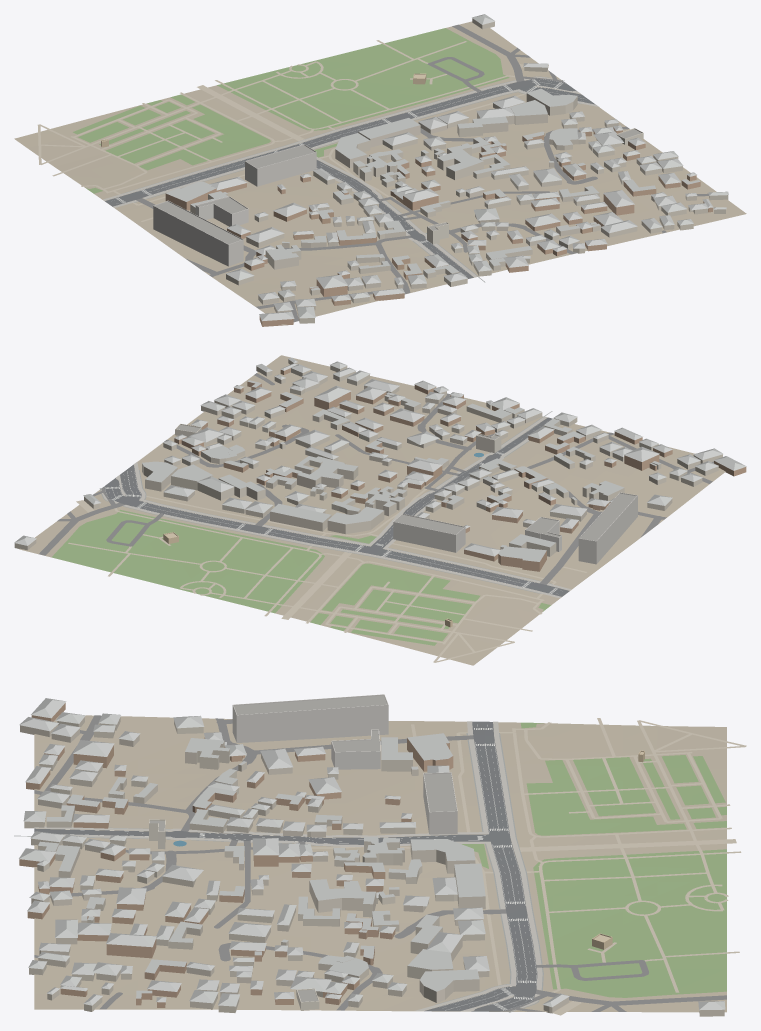
Rendered from bolak_0_0.glb.
3 views of the same model, one above another, from view 1: azimuth 30°, elevation 25°; view 2: azimuth 150°, elevation 25°; view 3: azimuth 270°, elevation 25° (orthographic). The views are drawn at different scales.
Parts seen in each view (by area): view 1: Yer_Tuproq-col, Tom_Shifer, Yer_Maysa, Devor_Suvoq-col, Devor_Gisht-col, Yol_Piyoda, Yol_Asfalt-col, Yol_Mahalla-col, Devor_Panel-col, Trotuar, Tom_Tekis, Devor_Dokon-col (+2 smaller); view 2: Yer_Tuproq-col, Tom_Shifer, Yer_Maysa, Devor_Suvoq-col, Yol_Piyoda, Devor_Gisht-col, Yol_Asfalt-col, Yol_Mahalla-col, Trotuar, Devor_Panel-col, Tom_Tekis, Ariq (+2 smaller); view 3: Yer_Tuproq-col, Tom_Shifer, Yer_Maysa, Devor_Suvoq-col, Yol_Piyoda, Yol_Asfalt-col, Devor_Gisht-col, Yol_Mahalla-col, Devor_Panel-col, Trotuar, Tom_Tekis, Yol_Chiziq (+3 smaller).
Part boxes in pixels (<box>): Yer_Tuproq-col: <box>14,21,746,325</box>; Tom_Shifer: <box>166,14,728,321</box>; Yer_Maysa: <box>73,28,509,193</box>; Devor_Suvoq-col: <box>190,18,728,323</box>; Devor_Gisht-col: <box>165,127,712,326</box>; Yol_Piyoda: <box>37,40,548,221</box>; Yol_Asfalt-col: <box>105,78,595,278</box>; Yol_Mahalla-col: <box>136,24,708,321</box>; Devor_Panel-col: <box>153,144,316,266</box>; Trotuar: <box>103,76,598,277</box>; Tom_Tekis: <box>155,129,641,244</box>; Devor_Dokon-col: <box>195,196,248,226</box>; Yer_Tuproq-col: <box>19,355,725,665</box>; Tom_Shifer: <box>14,357,746,561</box>; Yer_Maysa: <box>51,509,550,645</box>; Devor_Suvoq-col: <box>14,359,722,556</box>; Yol_Piyoda: <box>68,488,586,662</box>; Devor_Gisht-col: <box>174,368,746,571</box>; Yol_Asfalt-col: <box>104,417,569,596</box>; Yol_Mahalla-col: <box>39,373,713,584</box>; Trotuar: <box>101,416,571,598</box>; Devor_Panel-col: <box>393,492,637,564</box>; Tom_Tekis: <box>176,425,636,540</box>; Ariq: <box>99,411,552,593</box>; Yer_Tuproq-col: <box>34,715,726,1012</box>; Tom_Shifer: <box>19,698,725,1010</box>; Yer_Maysa: <box>462,722,726,997</box>; Devor_Suvoq-col: <box>20,717,724,1016</box>; Yol_Piyoda: <box>311,718,746,1015</box>; Yol_Asfalt-col: <box>34,721,537,1011</box>; Devor_Gisht-col: <box>19,703,453,1007</box>; Yol_Mahalla-col: <box>34,715,726,1011</box>; Devor_Panel-col: <box>232,694,457,834</box>; Trotuar: <box>34,721,542,1011</box>; Tom_Tekis: <box>149,695,456,1001</box>; Yol_Chiziq: <box>66,724,536,1010</box>.
Size of what is drawn, in the model's own units: 419 by 23.45 by 423.
